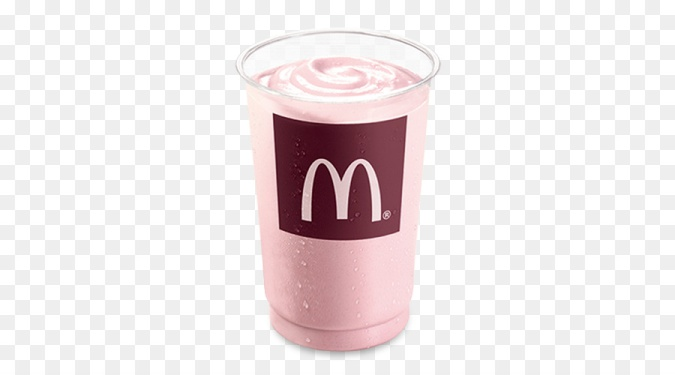mcdonalds: (297, 153, 387, 226)
